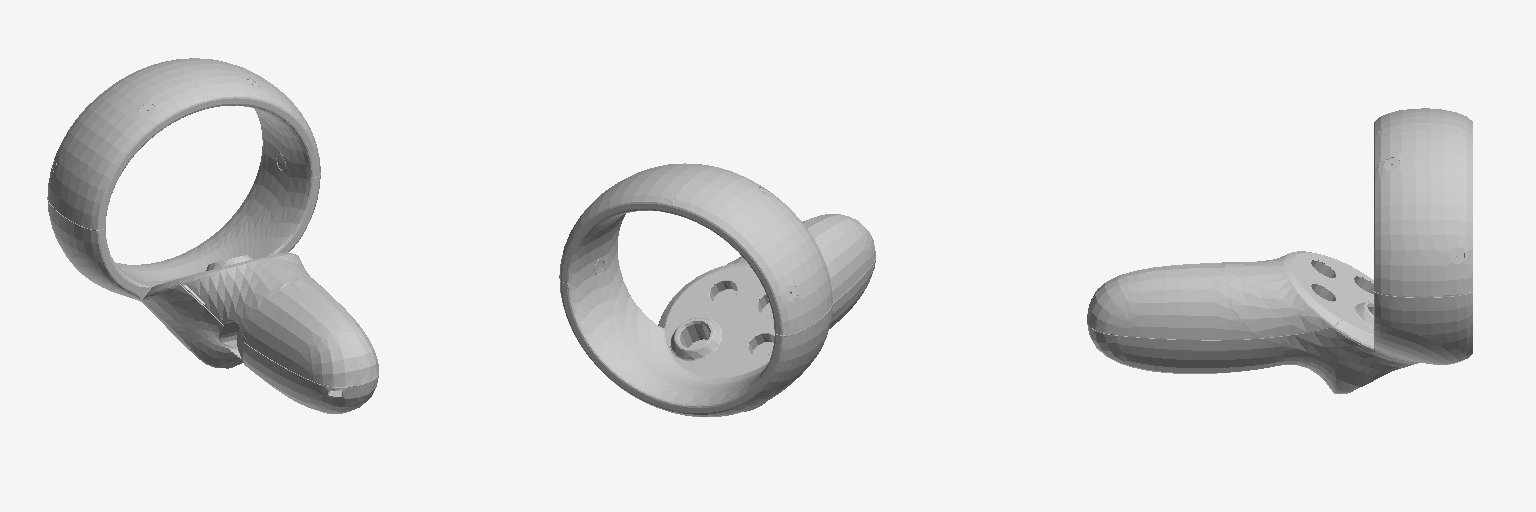
The model's file is body.obj.
3 renders of one model, left to right at view 1: azimuth 30°, elevation 25°; view 2: azimuth 150°, elevation 25°; view 3: azimuth 270°, elevation 25°, orthographic.
Visible parts, largest first — view 1: body.003; view 2: body.003; view 3: body.003.
Boxes of the visible parts, x1=… form: body.003: x1=47, y1=58, x2=378, y2=413; body.003: x1=559, y1=163, x2=875, y2=416; body.003: x1=1087, y1=108, x2=1472, y2=393.
Size of the model in its own units: 0.097 by 0.1008 by 0.1326.